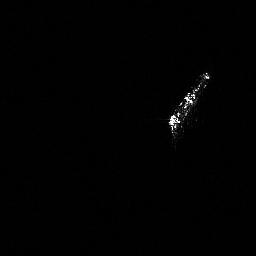ship: (165, 70, 212, 140)
